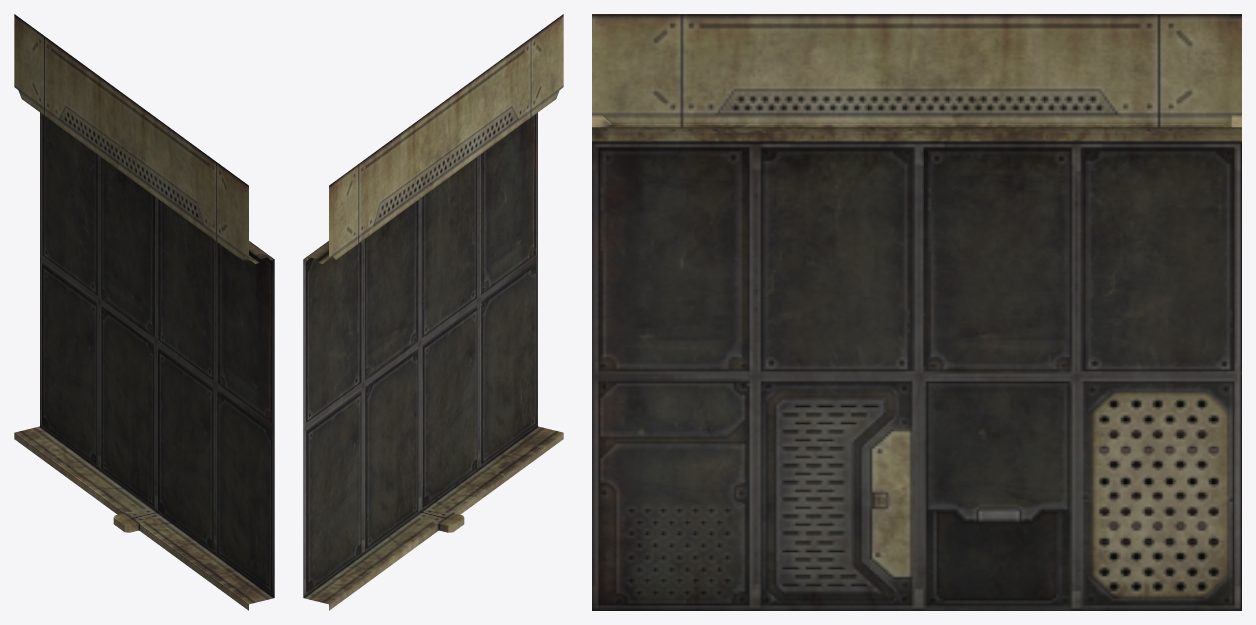
The model's file is pplant_ground.dae.
3 renders of one model, left to right at view 1: azimuth 30°, elevation 25°; view 2: azimuth 150°, elevation 25°; view 3: azimuth 270°, elevation 25°, orthographic. The views are drawn at different scales.
Visible parts, largest first — view 1: ground; view 2: ground; view 3: ground.
Part boxes in pixels (left/top/right/bottom): ground: left=14, top=14, right=274, bottom=610; ground: left=303, top=14, right=563, bottom=610; ground: left=592, top=14, right=1241, bottom=610.
Bounding box in the file's own units: 0.375 × 4 × 4.
